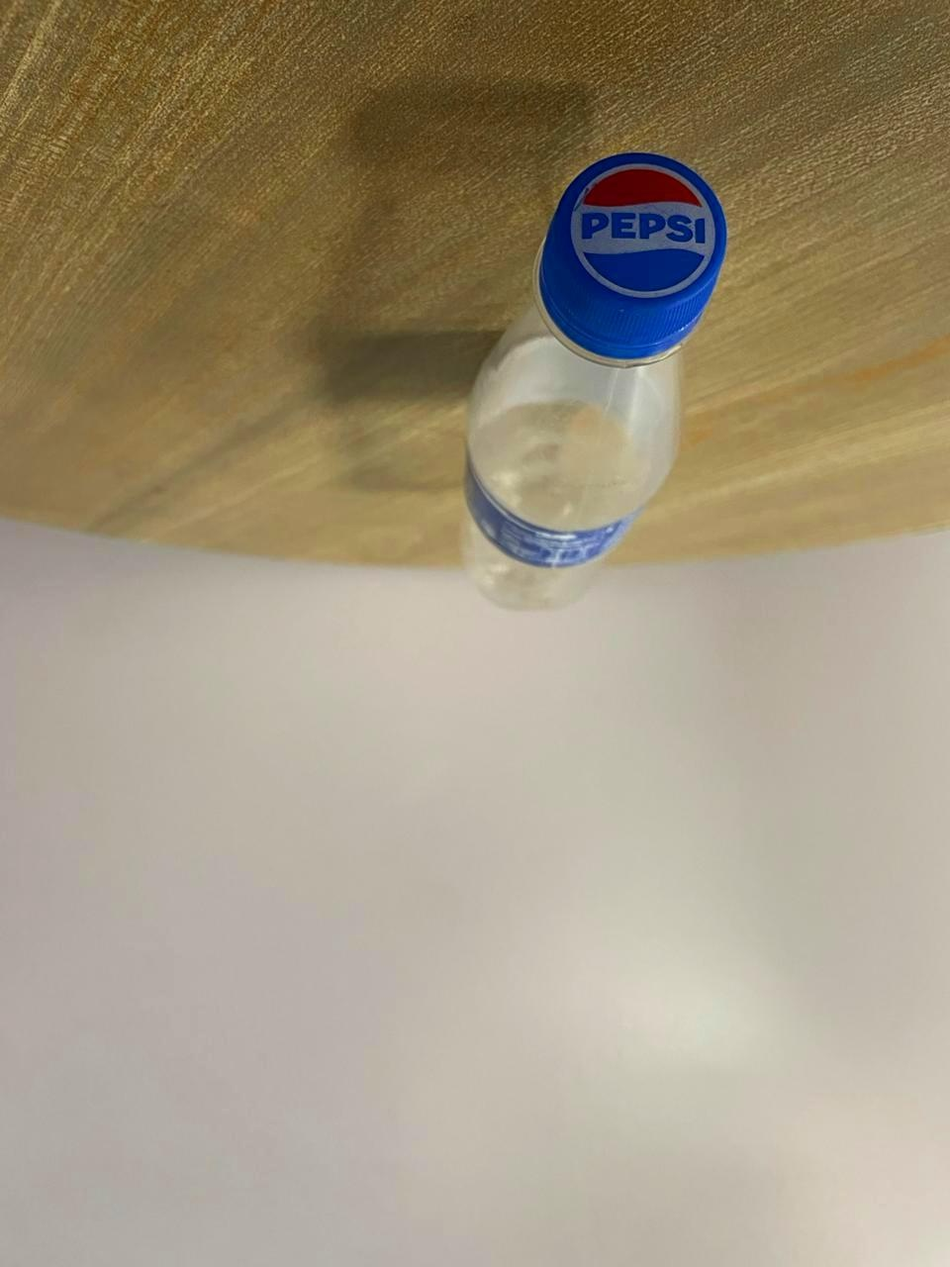Pepsi Bottle: (429, 127, 732, 628), (431, 143, 732, 628)
